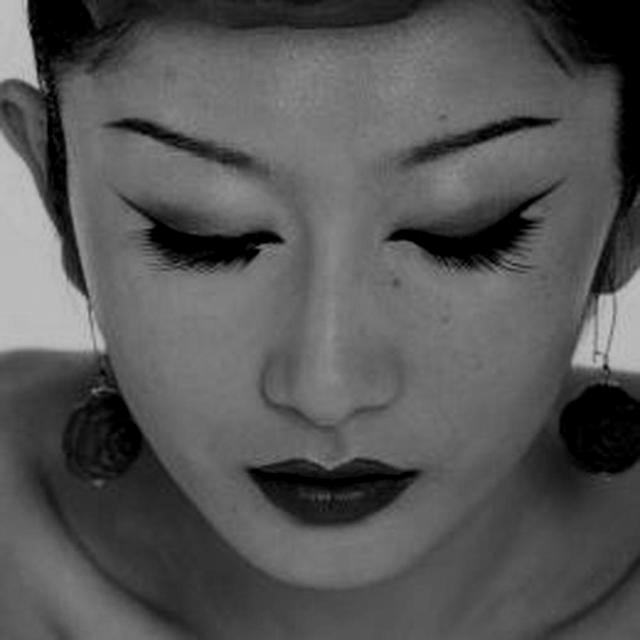real: (43, 25, 640, 597), (108, 150, 580, 298)
